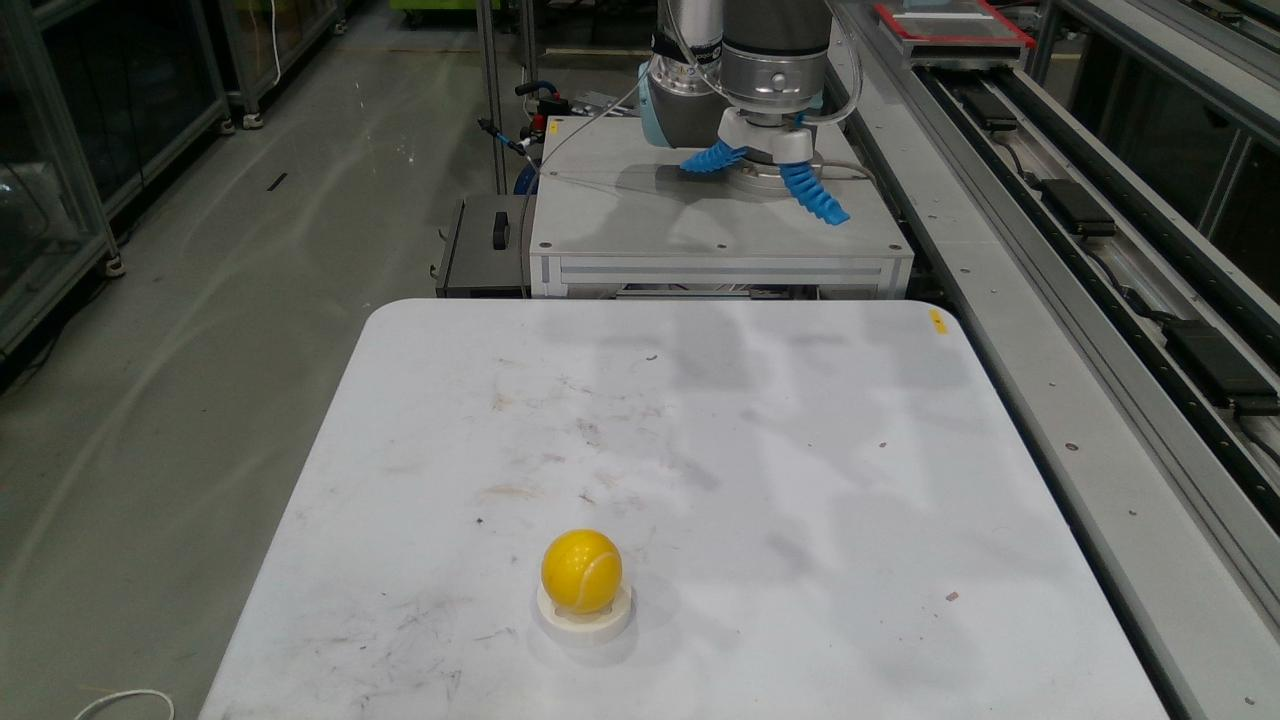UR5: (637, 0, 835, 197)
gripper_left: (680, 139, 746, 174)
gripper_right: (779, 163, 848, 225)
target: (542, 530, 622, 616), (537, 581, 632, 643)
